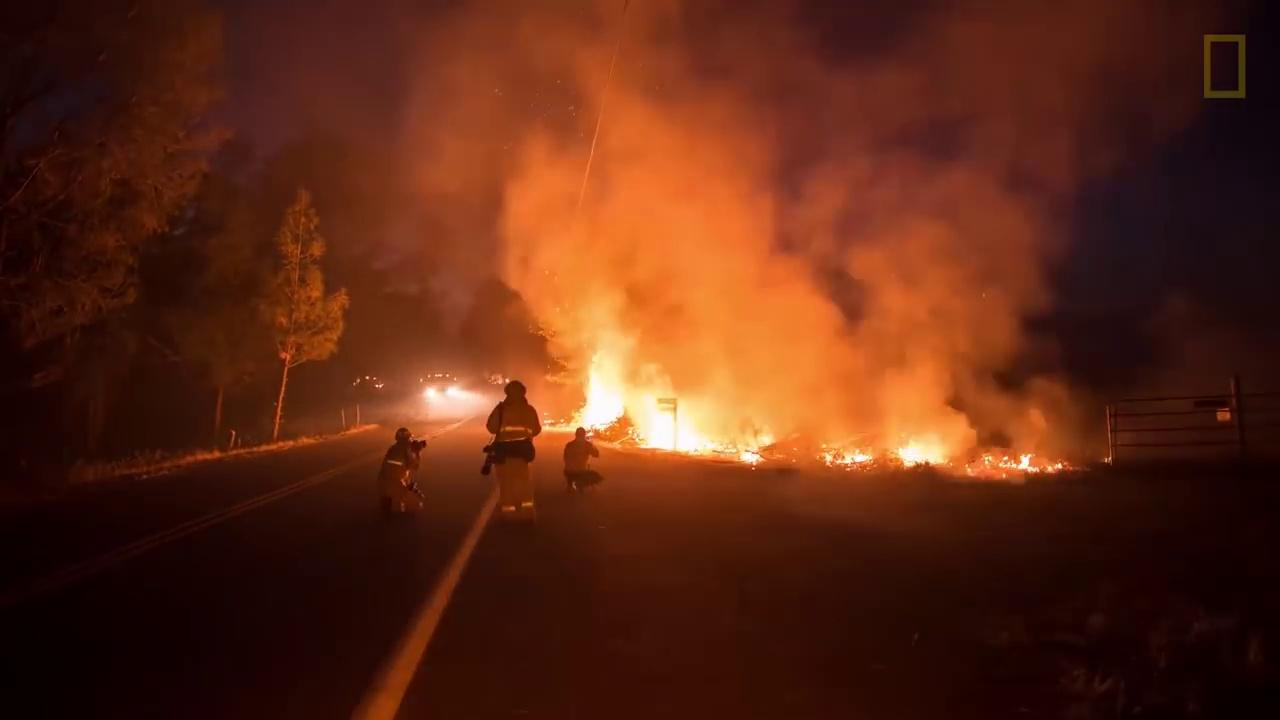Fire: (552, 355, 776, 466), (1001, 447, 1068, 479), (895, 438, 950, 473), (825, 445, 874, 472)
